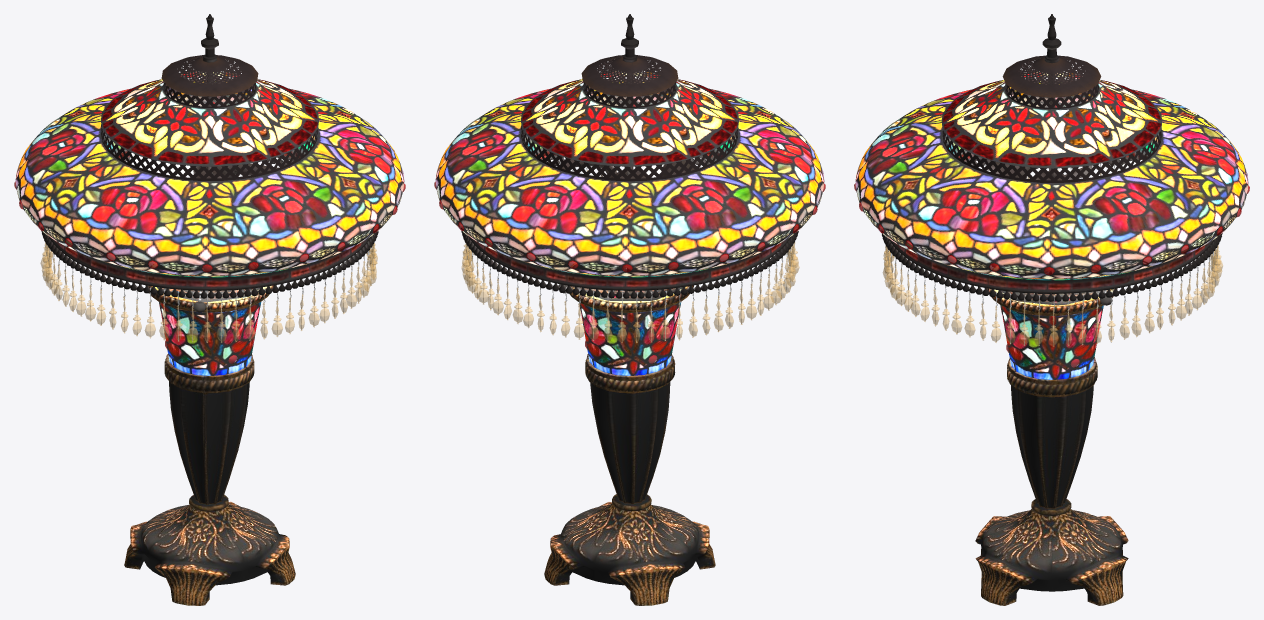
The model's file is item-05.glb.
3 renders of one model, left to right at view 1: azimuth 30°, elevation 25°; view 2: azimuth 150°, elevation 25°; view 3: azimuth 270°, elevation 25°, orthographic.
Parts seen in each view (by area): view 1: stainedglass, base, grill, amberbeads, hardware, steel, redgems; view 2: stainedglass, base, grill, amberbeads, hardware, steel, redgems; view 3: stainedglass, base, grill, amberbeads, hardware, steel, redgems.
Boxes of the visible parts, x1=… form: stainedglass: x1=15, y1=71, x2=404, y2=375; base: x1=124, y1=263, x2=295, y2=605; grill: x1=101, y1=55, x2=317, y2=180; amberbeads: x1=40, y1=242, x2=377, y2=343; hardware: x1=41, y1=14, x2=378, y2=312; steel: x1=45, y1=162, x2=373, y2=342; redgems: x1=14, y1=101, x2=405, y2=363; stainedglass: x1=435, y1=71, x2=824, y2=375; base: x1=544, y1=263, x2=715, y2=605; grill: x1=521, y1=55, x2=737, y2=181; amberbeads: x1=461, y1=170, x2=799, y2=342; hardware: x1=461, y1=14, x2=798, y2=298; steel: x1=466, y1=160, x2=794, y2=342; redgems: x1=434, y1=104, x2=825, y2=363; stainedglass: x1=855, y1=71, x2=1248, y2=379; base: x1=975, y1=266, x2=1128, y2=605; grill: x1=942, y1=55, x2=1161, y2=182; amberbeads: x1=882, y1=170, x2=1222, y2=346; hardware: x1=882, y1=14, x2=1222, y2=305; steel: x1=886, y1=163, x2=1217, y2=345; redgems: x1=854, y1=105, x2=1249, y2=367.
Bounding box in the file's own units: 0.4399 × 0.6889 × 0.4399.
Materials: 8 (4 with a texture image).
